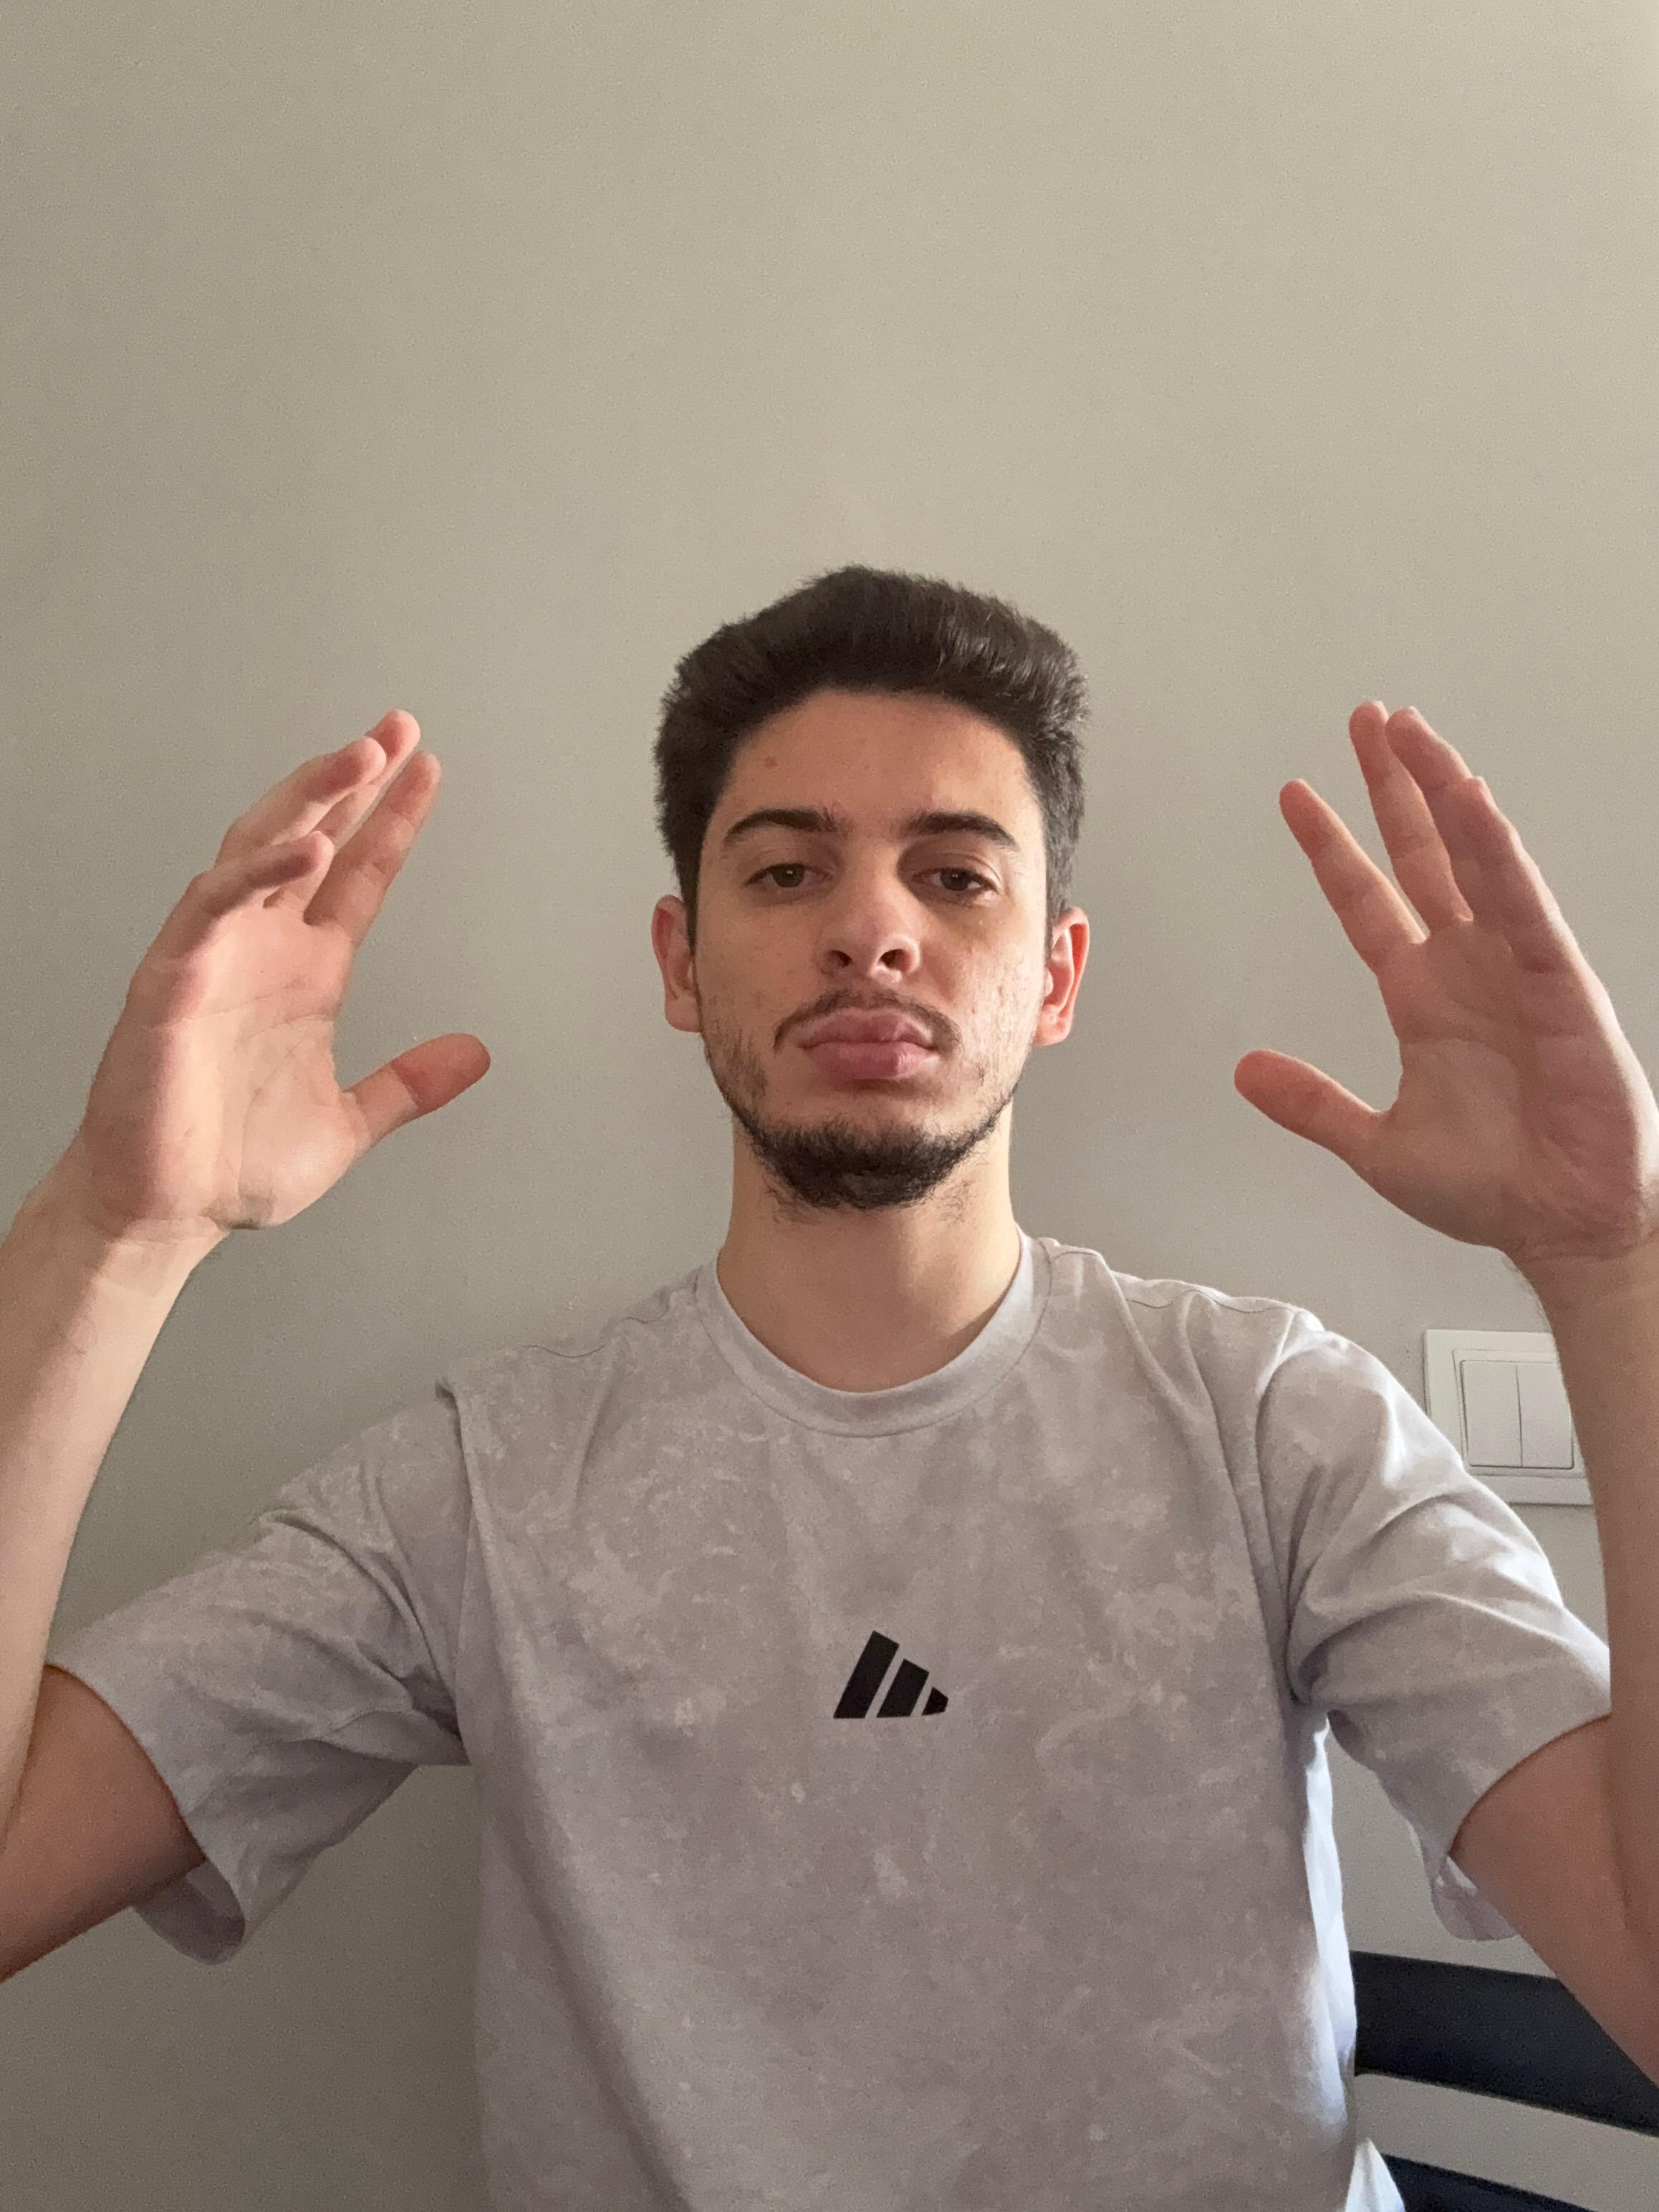explode: (7, 561, 1652, 2200)
